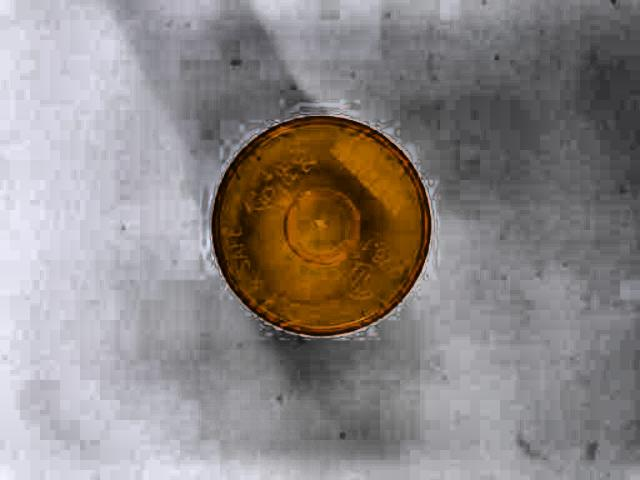Plastic: (187, 97, 451, 339)
